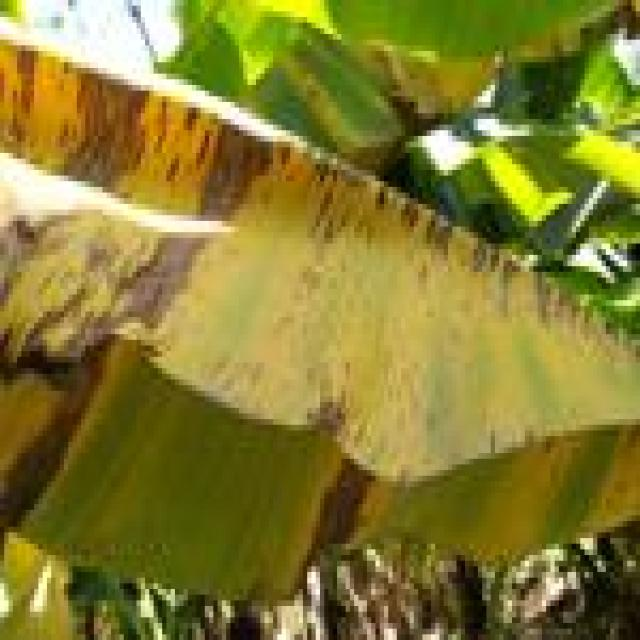Early_rust: (0, 27, 640, 543)
